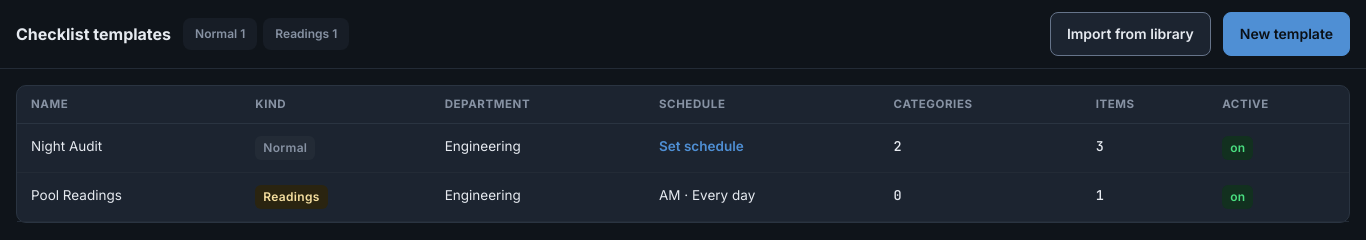
ChecklistTemplatesAdmin › lists kind, categories and "Set schedule", and filters by kind
Expected: the text "Normal" is shown, [255,136,315,160]
Expected: the text "Set schedule" is shown, [659,138,744,154]
Click the button "Readings 1": (306, 34) [263,18,349,50]
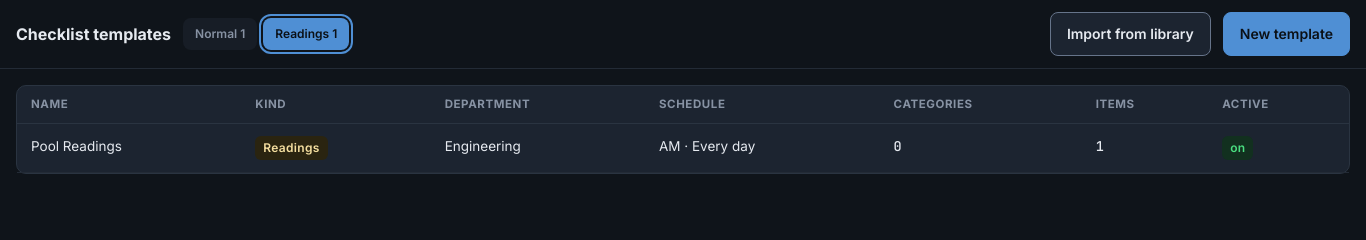
Expected: the text "Night Audit" is gone
Click the button "Readings 1": (306, 34) [263,18,349,50]
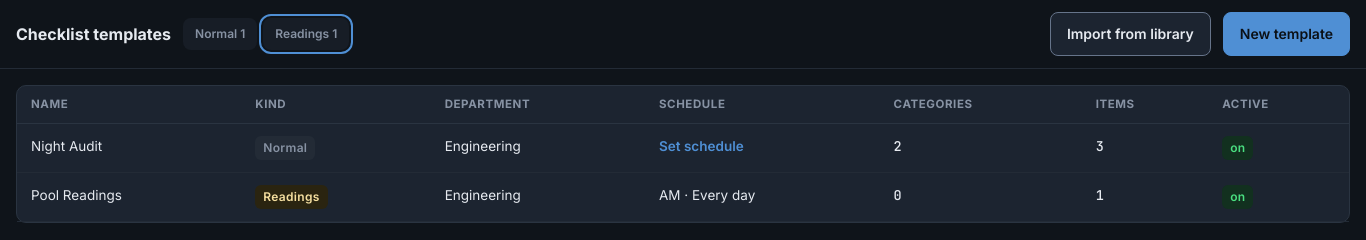
Expected: the button "Normal 1" is shown, [183,18,257,50]
Expected: the text "Night Audit" is shown, [17,124,241,173]
